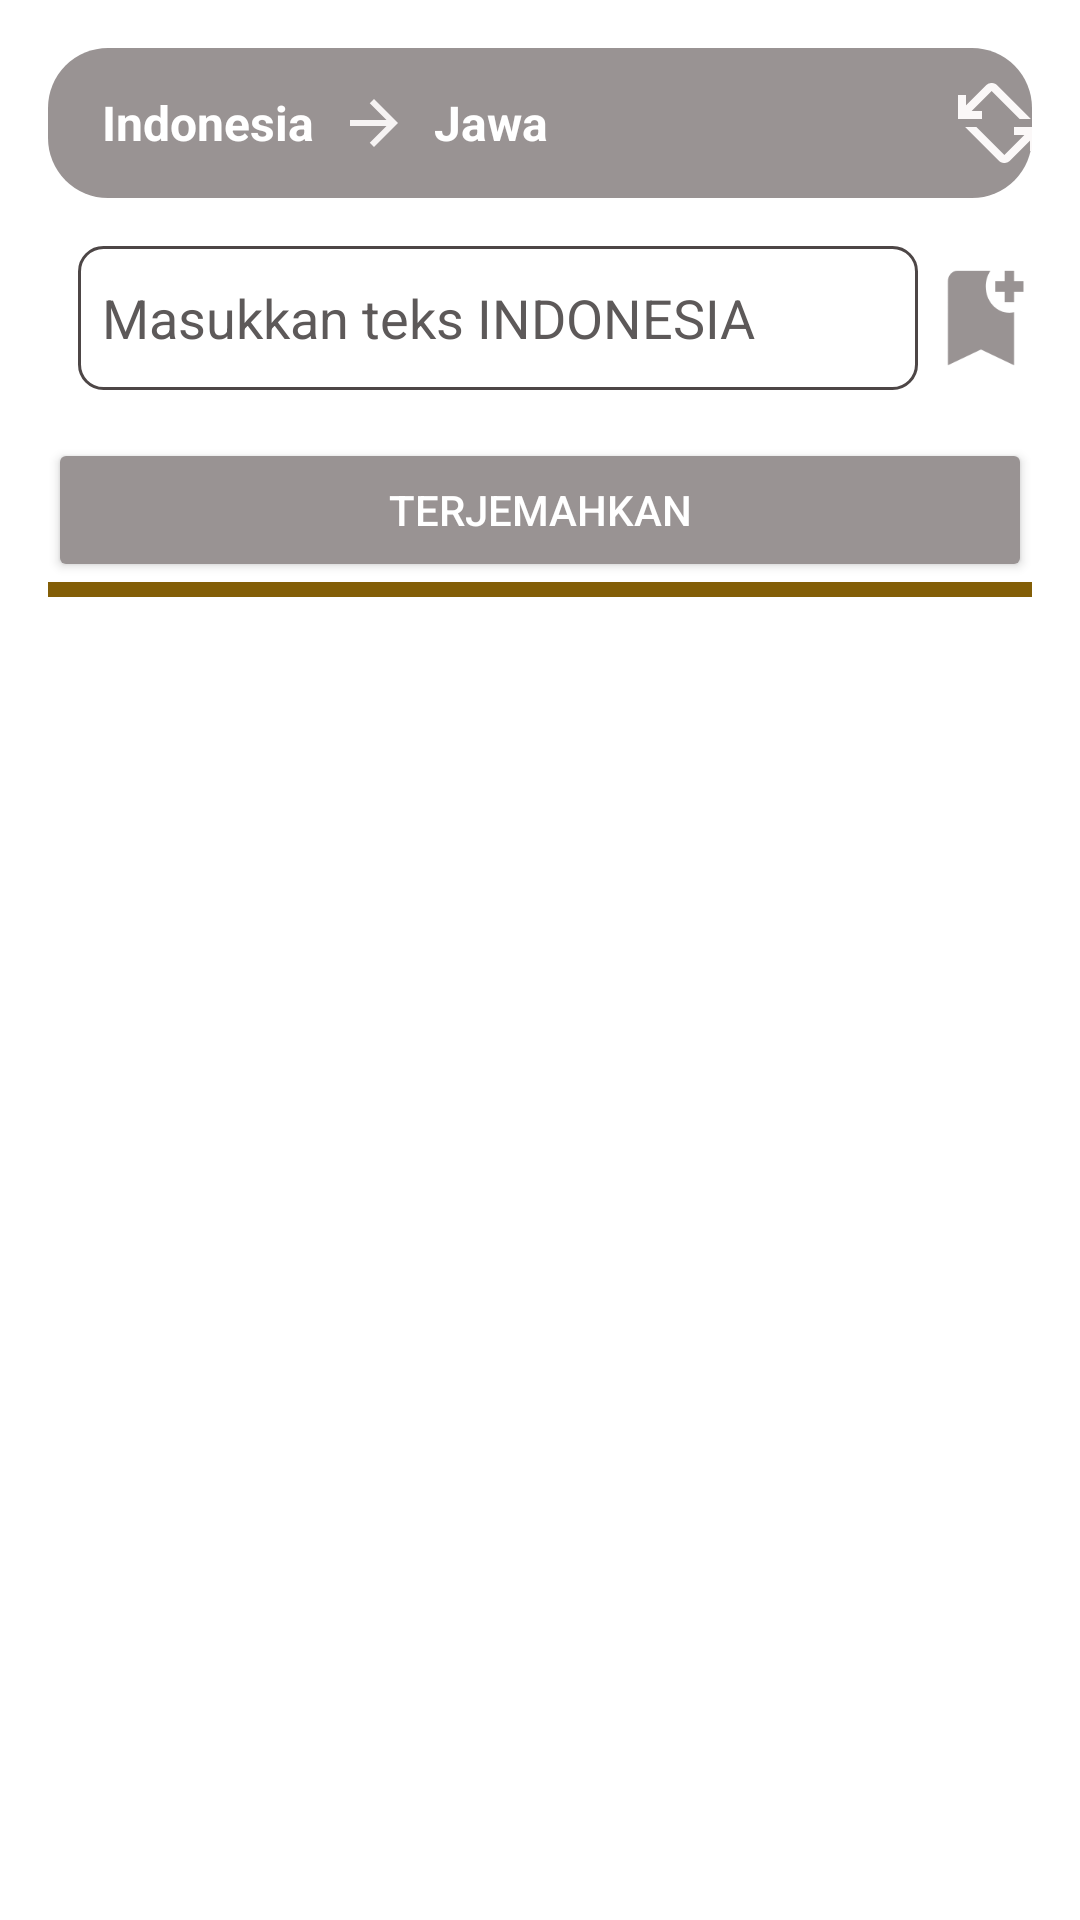

Screen size 1080 x 1920. Icon name, then its box in pixels as bbox=[x1, y1, x2, y2]:
addfav: bbox=[948, 271, 1024, 365]
arrow: bbox=[350, 99, 398, 147]
